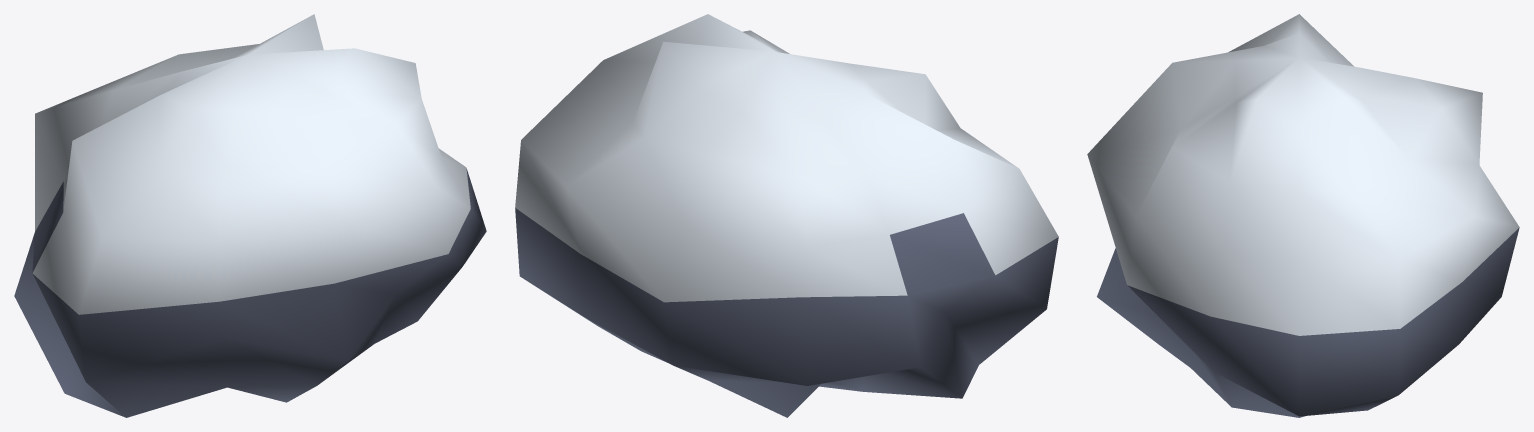
File: Rock1.fbx
The picture shows the model from 3 angles, left to right: view 1: azimuth 30°, elevation 25°; view 2: azimuth 150°, elevation 25°; view 3: azimuth 270°, elevation 25°; orthographic projection. The views are drawn at different scales.
Visible parts, largest first — view 1: Rock; view 2: Rock; view 3: Rock.
Part boxes in pixels (<box>): Rock: <box>14,14,486,417</box>; Rock: <box>515,14,1058,417</box>; Rock: <box>1087,14,1519,417</box>.
Bounding box in the file's own units: 3.4 × 2.29 × 2.7.
